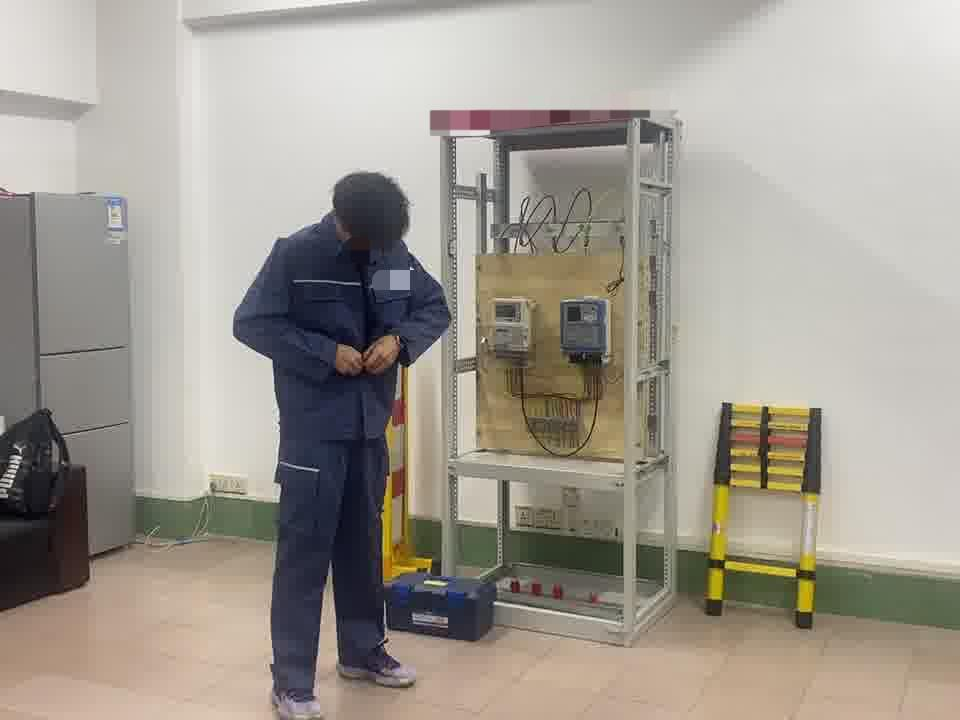unhalt: (332, 174, 415, 263)
